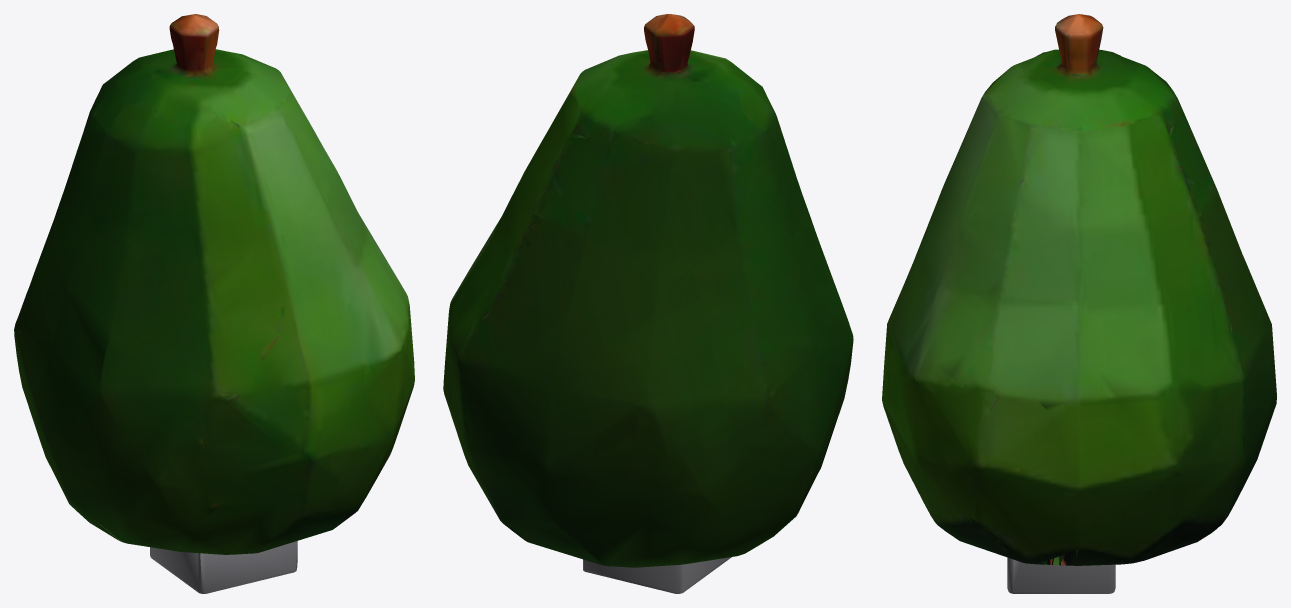
The model's file is avocado_media.glb.
3 renders of one model, left to right at view 1: azimuth 30°, elevation 25°; view 2: azimuth 150°, elevation 25°; view 3: azimuth 270°, elevation 25°, orthographic. The views are drawn at different scales.
Parts seen in each view (by area): view 1: avocado; view 2: avocado; view 3: avocado.
Part boxes in pixels (x1,y1,x2,y2): avocado: [14, 14, 414, 593]; avocado: [443, 14, 853, 593]; avocado: [882, 14, 1276, 593].
Bounding box in the file's own units: 1.27 × 1.99 × 1.31.
2 materials, 1 textured.
